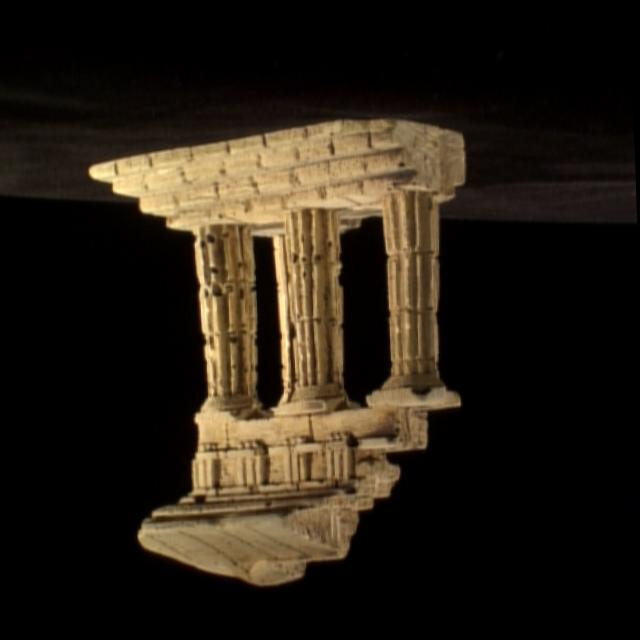Instance-Segmentation: (88, 120, 462, 584)
